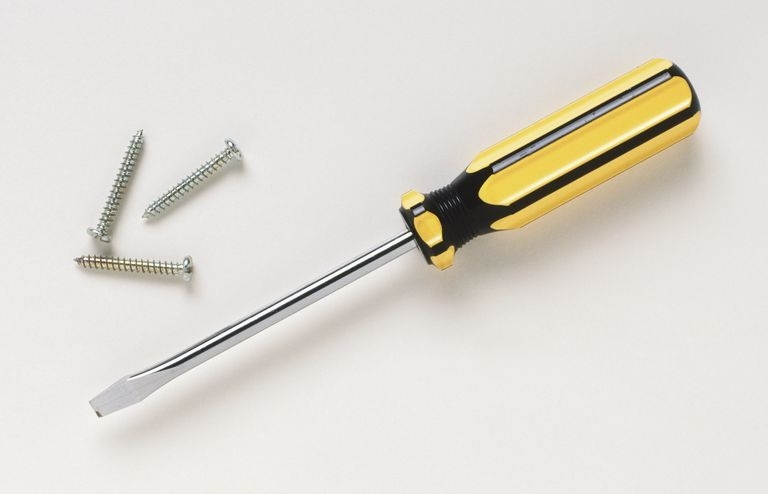screwdriver: (85, 58, 706, 420)
